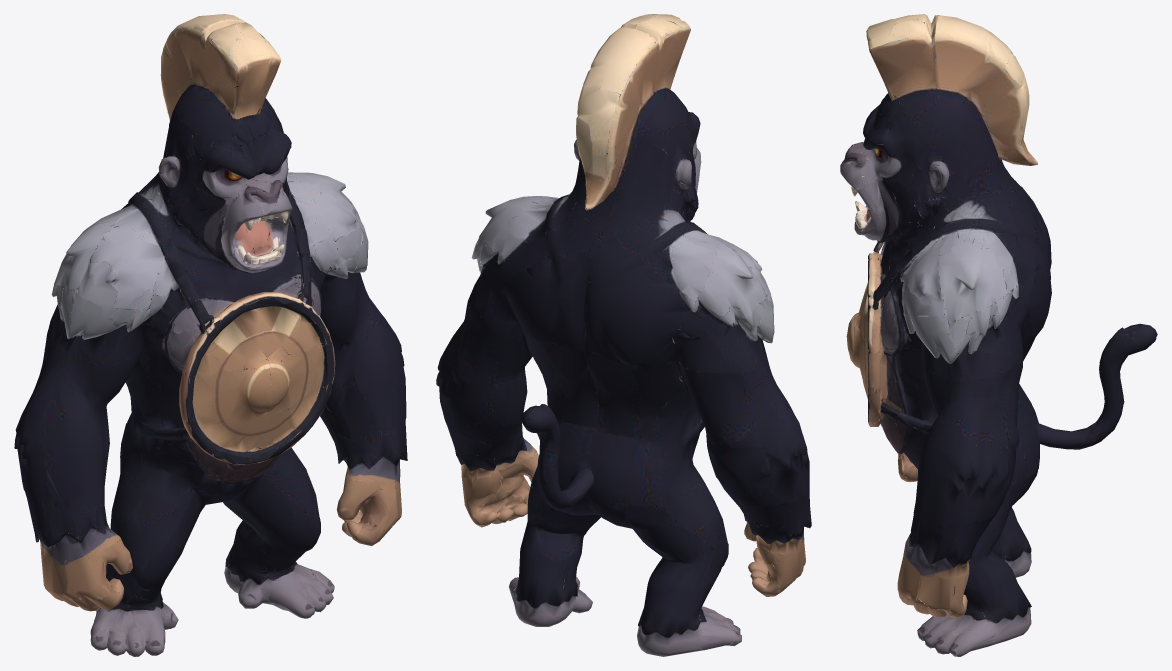
3 views of the same model, side by side, from view 1: azimuth 30°, elevation 25°; view 2: azimuth 150°, elevation 25°; view 3: azimuth 270°, elevation 25° (orthographic). The views are drawn at different scales.
Parts seen in each view (by area): view 1: Mesh_0; view 2: Mesh_0; view 3: Mesh_0.
Boxes of the visible parts, <box> form: Mesh_0: <box>14,14,407,656</box>; Mesh_0: <box>436,14,811,656</box>; Mesh_0: <box>840,14,1157,656</box>.
Bounding box in the file's own units: 1.24 × 1.9 × 0.9338.
1 material, 1 textured.
